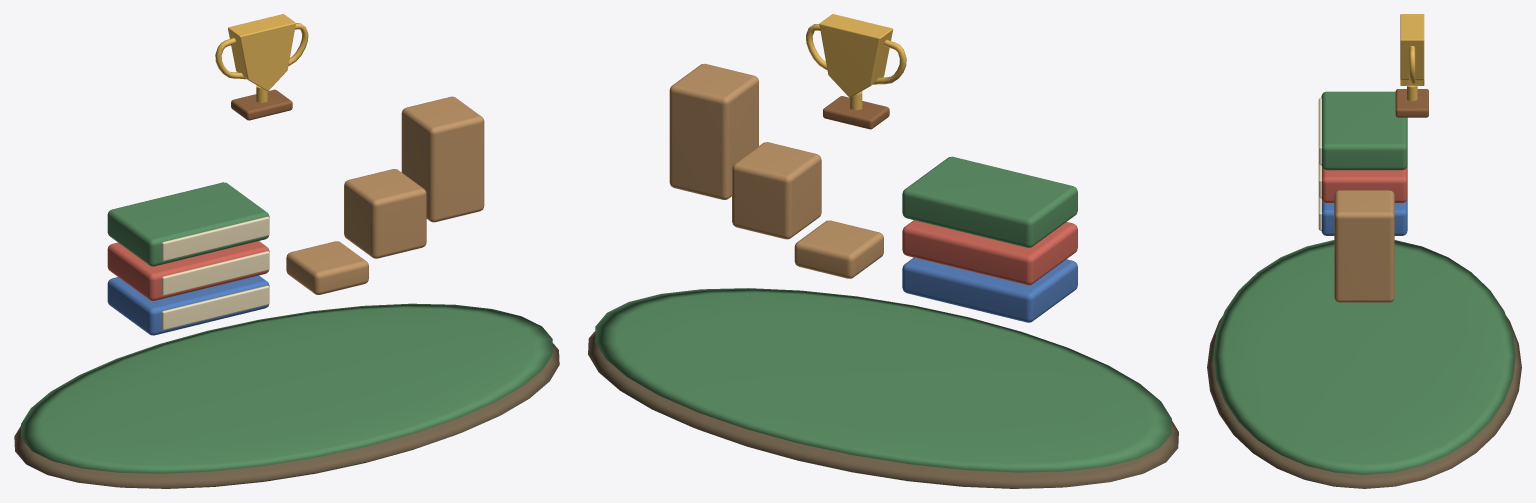
The model's file is complete-third-accumulating-extreme.glb.
3 views of the same model, side by side, from view 1: azimuth 30°, elevation 25°; view 2: azimuth 150°, elevation 25°; view 3: azimuth 270°, elevation 25° (orthographic). The views are drawn at different scales.
Visible parts, largest first — view 1: complete-third-accumulating-extreme_surface_01, complete-third-accumulating-extreme_surface_05, complete-third-accumulating-extreme_surface_00, complete-third-accumulating-extreme_surface_03, complete-third-accumulating-extreme_surface_06, complete-third-accumulating-extreme_surface_02, complete-third-accumulating-extreme_surface_04, complete-third-accumulating-extreme_surface_07; view 2: complete-third-accumulating-extreme_surface_01, complete-third-accumulating-extreme_surface_05, complete-third-accumulating-extreme_surface_00, complete-third-accumulating-extreme_surface_04, complete-third-accumulating-extreme_surface_02, complete-third-accumulating-extreme_surface_06, complete-third-accumulating-extreme_surface_07; view 3: complete-third-accumulating-extreme_surface_01, complete-third-accumulating-extreme_surface_05, complete-third-accumulating-extreme_surface_00, complete-third-accumulating-extreme_surface_04, complete-third-accumulating-extreme_surface_06, complete-third-accumulating-extreme_surface_02, complete-third-accumulating-extreme_surface_07, complete-third-accumulating-extreme_surface_03.
Boxes of the visible parts, x1=… form: complete-third-accumulating-extreme_surface_01: x1=21, y1=182, x2=552, y2=473; complete-third-accumulating-extreme_surface_05: x1=286, y1=96, x2=484, y2=294; complete-third-accumulating-extreme_surface_00: x1=14, y1=343, x2=559, y2=488; complete-third-accumulating-extreme_surface_03: x1=161, y1=216, x2=269, y2=329; complete-third-accumulating-extreme_surface_06: x1=215, y1=14, x2=308, y2=102; complete-third-accumulating-extreme_surface_02: x1=107, y1=275, x2=269, y2=335; complete-third-accumulating-extreme_surface_04: x1=107, y1=241, x2=269, y2=300; complete-third-accumulating-extreme_surface_07: x1=231, y1=89, x2=292, y2=120; complete-third-accumulating-extreme_surface_01: x1=595, y1=156, x2=1171, y2=472; complete-third-accumulating-extreme_surface_05: x1=669, y1=63, x2=883, y2=278; complete-third-accumulating-extreme_surface_00: x1=588, y1=331, x2=1178, y2=488; complete-third-accumulating-extreme_surface_04: x1=902, y1=220, x2=1077, y2=285; complete-third-accumulating-extreme_surface_02: x1=902, y1=257, x2=1077, y2=322; complete-third-accumulating-extreme_surface_06: x1=806, y1=14, x2=906, y2=110; complete-third-accumulating-extreme_surface_07: x1=823, y1=96, x2=889, y2=129; complete-third-accumulating-extreme_surface_01: x1=1213, y1=91, x2=1515, y2=474; complete-third-accumulating-extreme_surface_05: x1=1334, y1=190, x2=1394, y2=302; complete-third-accumulating-extreme_surface_00: x1=1207, y1=316, x2=1521, y2=488; complete-third-accumulating-extreme_surface_04: x1=1321, y1=165, x2=1407, y2=202; complete-third-accumulating-extreme_surface_06: x1=1400, y1=14, x2=1424, y2=101; complete-third-accumulating-extreme_surface_02: x1=1321, y1=198, x2=1407, y2=235; complete-third-accumulating-extreme_surface_07: x1=1395, y1=89, x2=1428, y2=117; complete-third-accumulating-extreme_surface_03: x1=1318, y1=98, x2=1322, y2=230.
Size of the model in its own units: 4.56 by 3.11 by 2.5.
